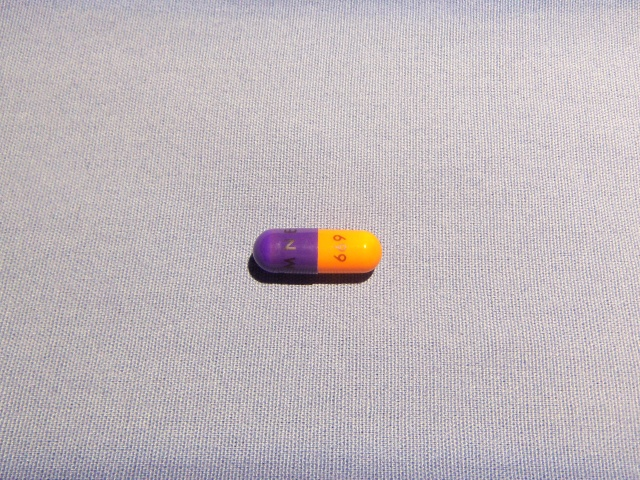capsule: (253, 227, 382, 274)
